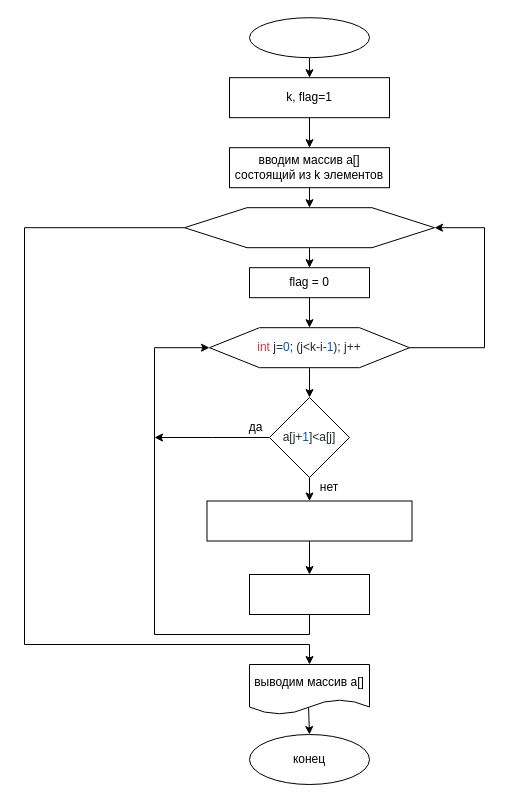
Some shapes in this 510 by 802 pixel diagram are drawn without their labels. Here are the shapes that lost their labels. From the top down, the centre of each, then its label:
At (x=309, y=37): "начало".
At (x=309, y=227): "int i=0; (i<k- 1 ) && (flag == 1 ) ; i++".
At (x=309, y=520): "переставляем значения a[j] и a[j+1]".
At (x=309, y=594): "flag = 1".
